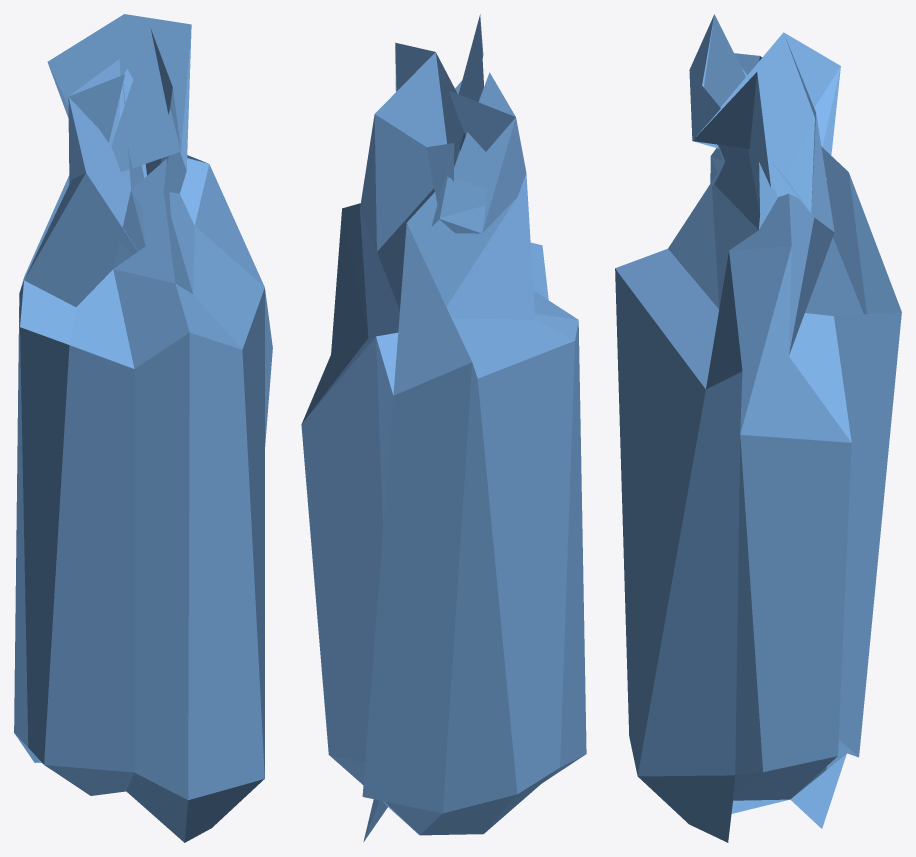
File: bottle_crushed.fbx
3 renders of one model, left to right at view 1: azimuth 30°, elevation 25°; view 2: azimuth 150°, elevation 25°; view 3: azimuth 270°, elevation 25°, orthographic. The views are drawn at different scales.
Visible parts, largest first — view 1: bottle_crushed; view 2: bottle_crushed; view 3: bottle_crushed.
Part boxes in pixels (left/top/right/bottom): bottle_crushed: left=14, top=14, right=272, bottom=842; bottle_crushed: left=301, top=14, right=586, bottom=842; bottle_crushed: left=615, top=14, right=901, bottom=842.
Size of the model in its own units: 0.0219 by 0.0676 by 0.0223.
